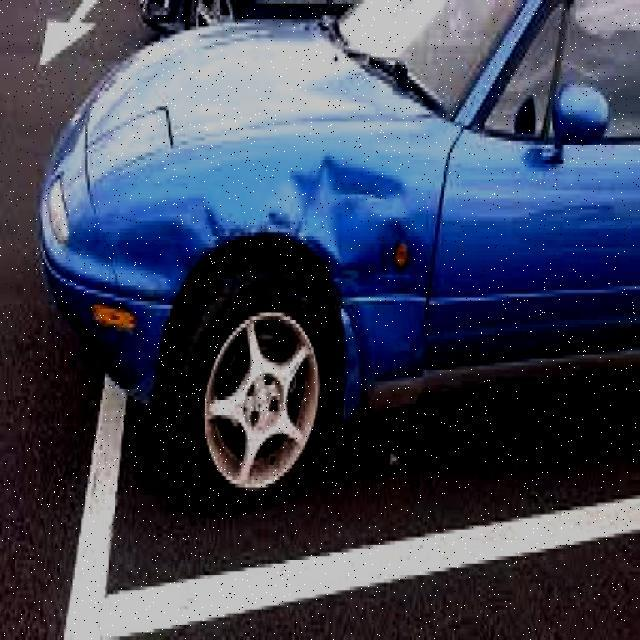car damage: (126, 148, 435, 386)
